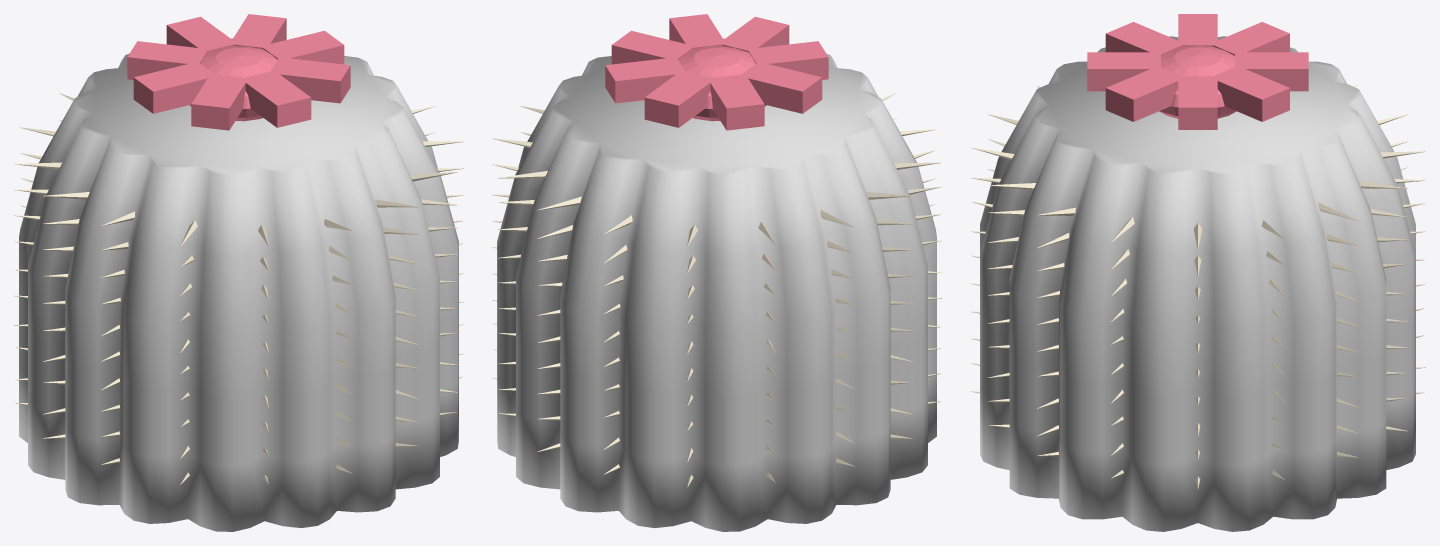
3 renders of one model, left to right at view 1: azimuth 30°, elevation 25°; view 2: azimuth 150°, elevation 25°; view 3: azimuth 270°, elevation 25°, orthographic.
Visible parts, largest first — view 1: BarrelCactus; view 2: BarrelCactus; view 3: BarrelCactus.
Part boxes in pixels (bbox=[...]): BarrelCactus: bbox=[14, 14, 463, 531]; BarrelCactus: bbox=[492, 14, 941, 531]; BarrelCactus: bbox=[970, 14, 1425, 531].
Size of what is drawn, in the model's own units: 1.85 by 1.73 by 1.85.
